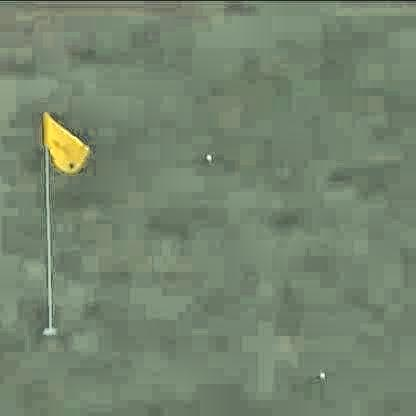golfball: (203, 151, 210, 158)
